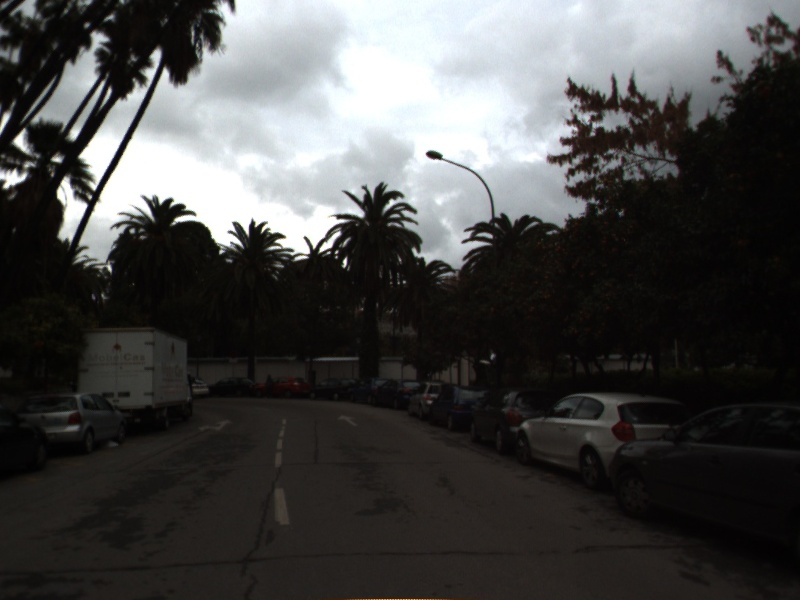STRAIGHT: (335, 412, 360, 428)
STRAIGHT_LEFT: (196, 417, 235, 435)
